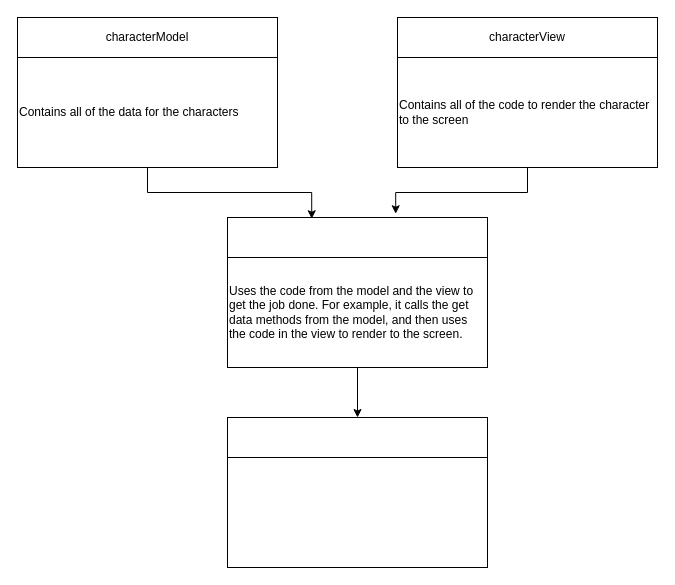
Image size: 675x585. Some labels were removed from this diagram. The shapes that lost their labels are listed below. From the top down, each one's centre as x and y in pixels, then its label:
At point 357,237: "characterController".
At point 357,437: "main.js".
At point 357,512: "A characterController object is created and everything is initialized".
